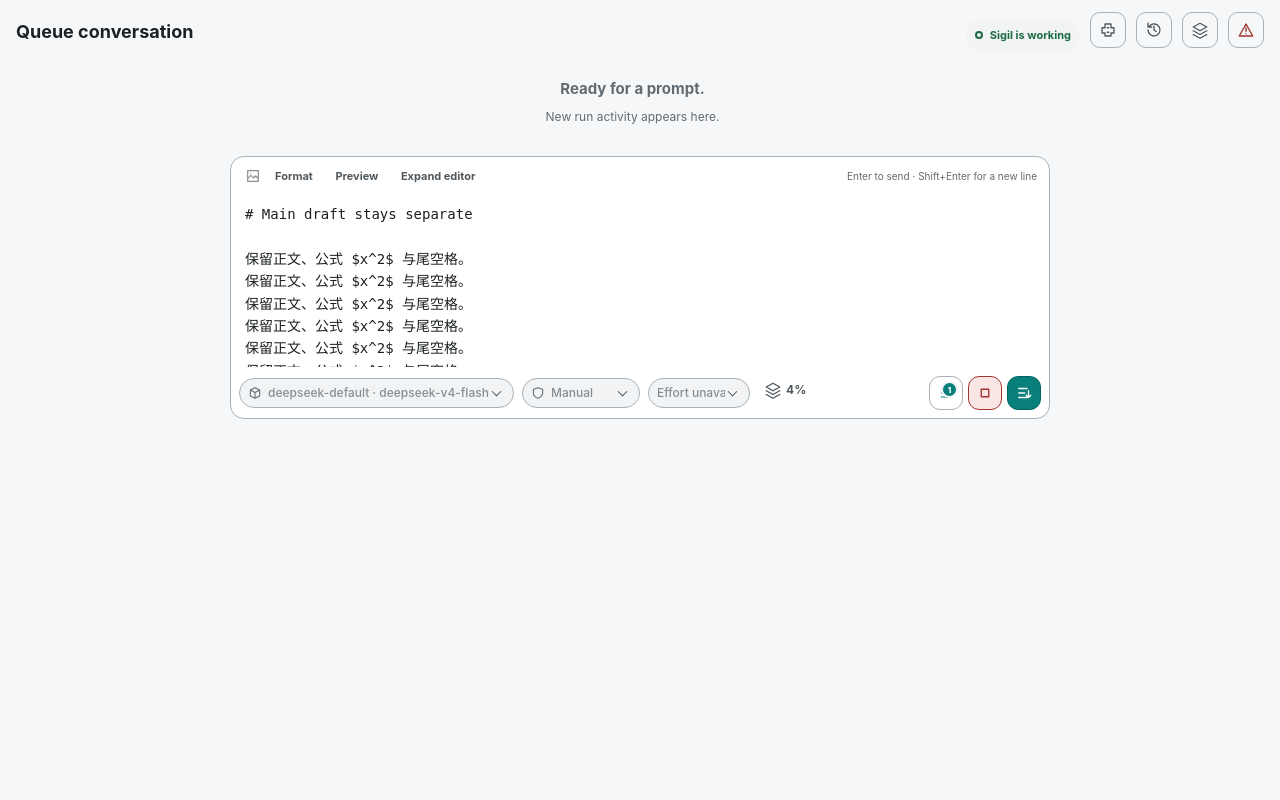
resuming the follow-up queue › follows the actual successor after Pause, Cancel and Resume when it is live
expect the button named "Cancel work" is shown: met, box [968,376,1002,410]
Click the button named "Open follow-up queue, 1 messages". click: (946, 393)
box: [929,376,963,410]
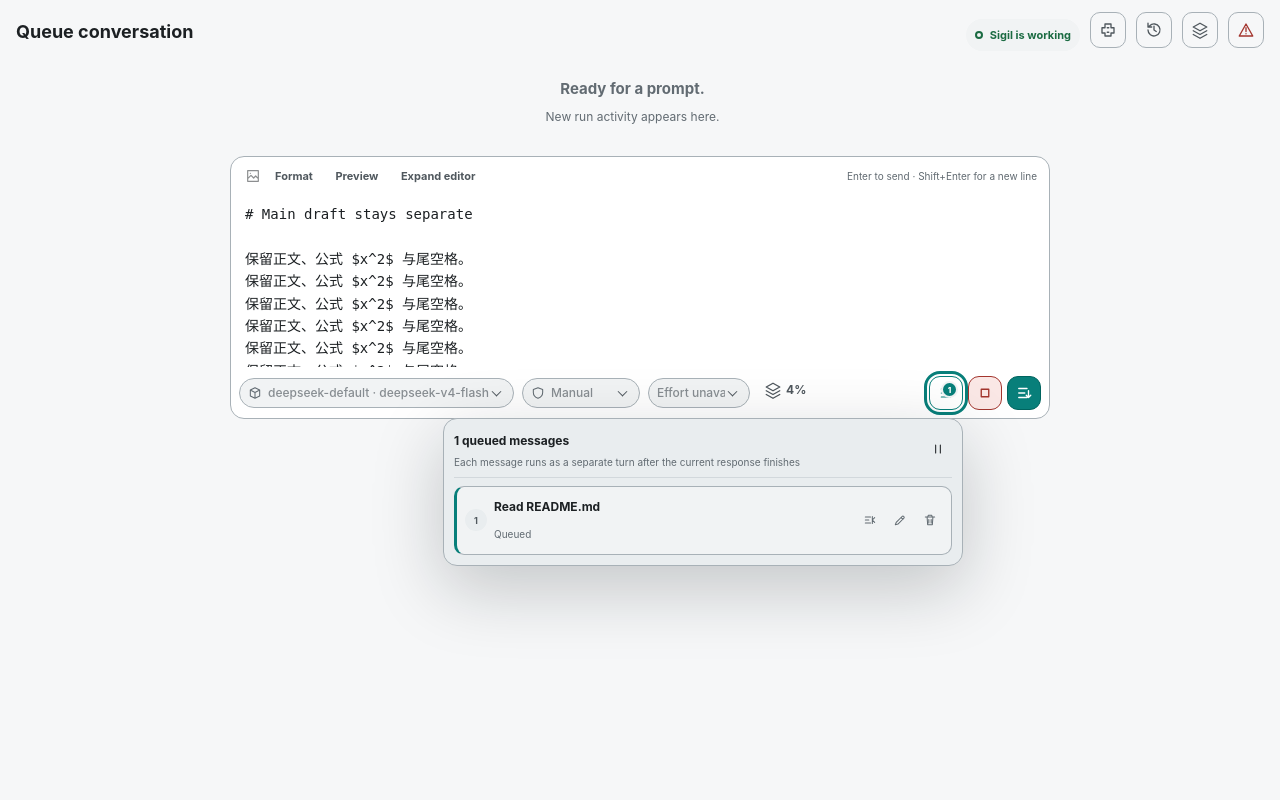
Click the button named "Pause queue". click: (938, 449)
box: [924,435,952,463]
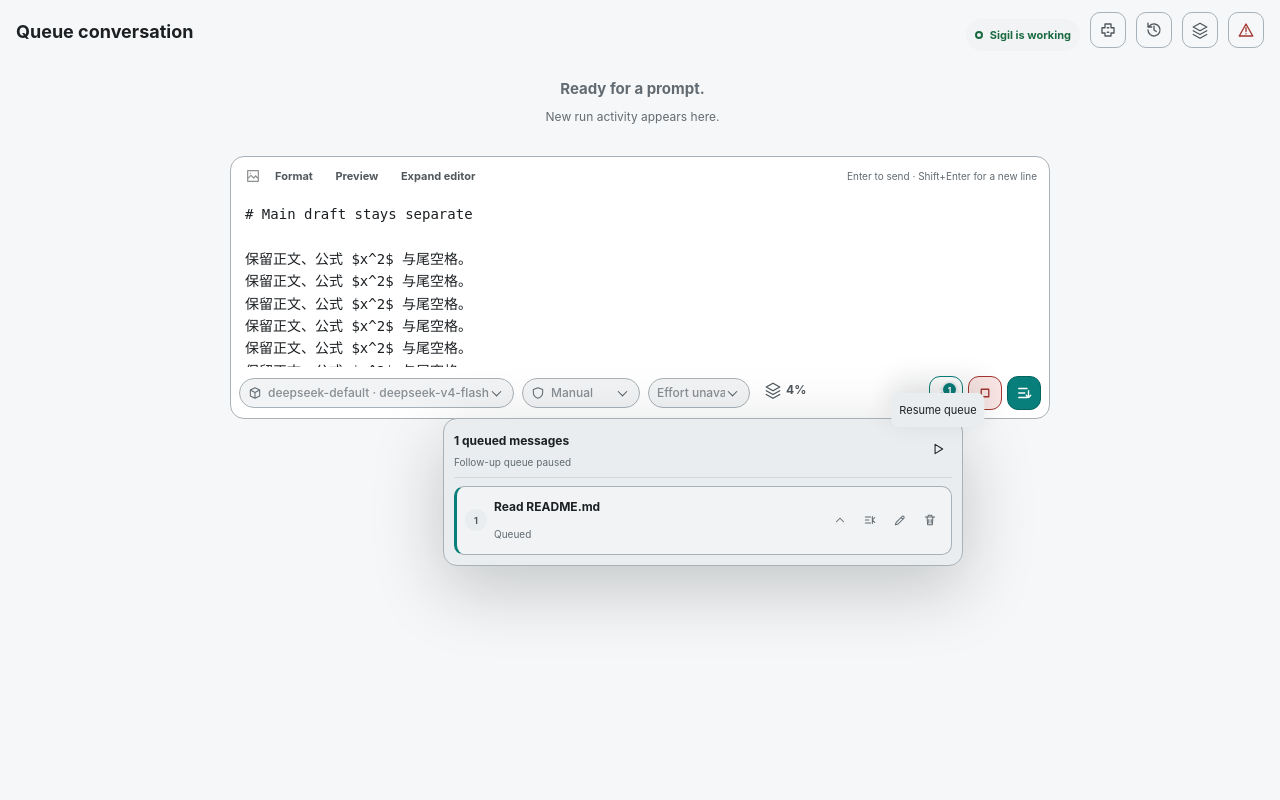
expect the button named "Resume queue" is shown: met, box [924,435,952,463]
Press Escape
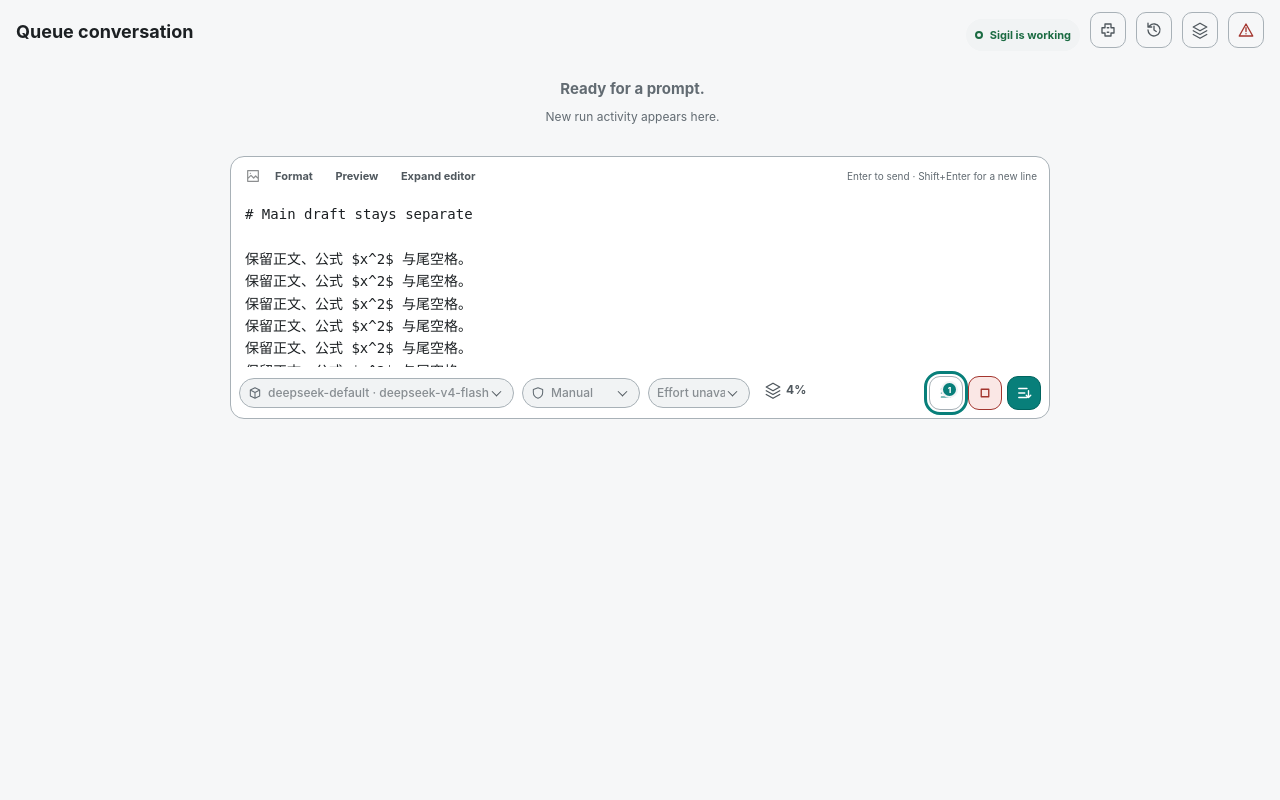
Click the button named "Cancel work". click: (985, 393)
box: [968,376,1002,410]
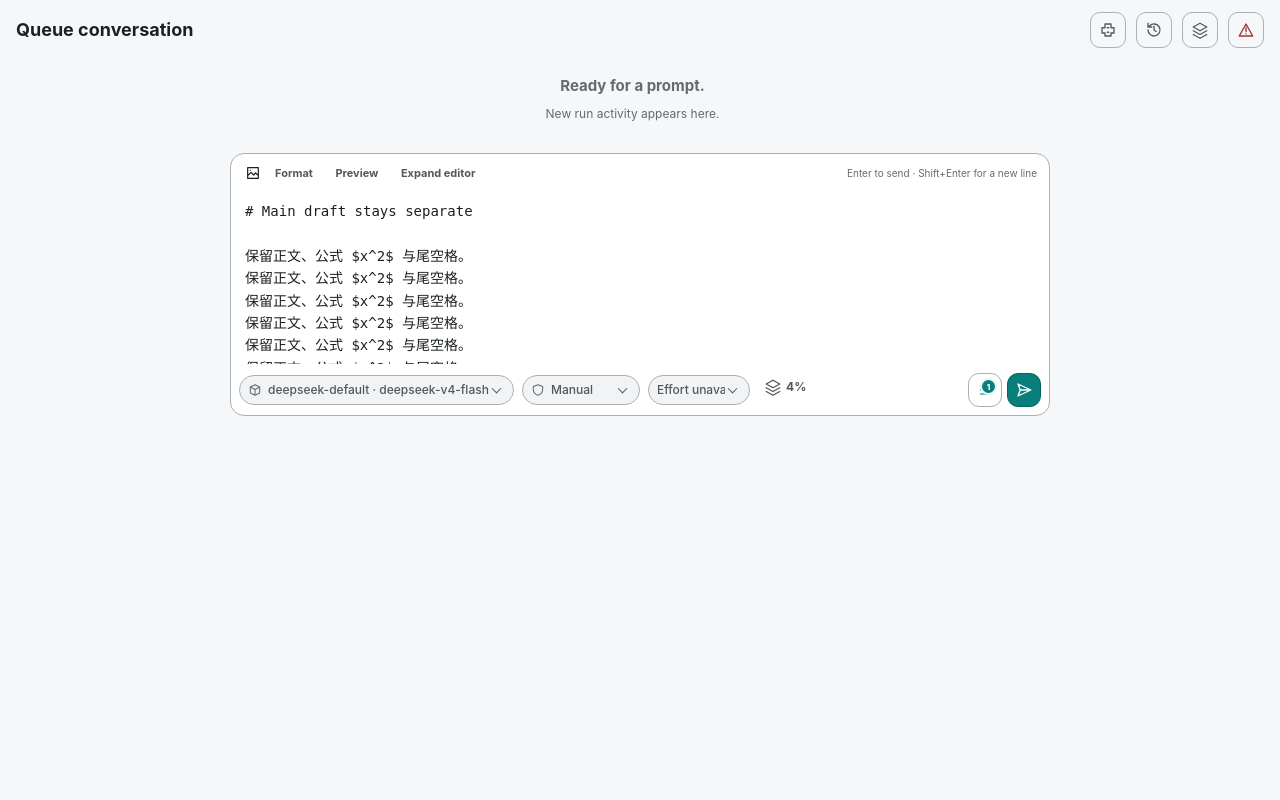
expect the element with class "conversation-panel" has attribute data-continuity-lifecycle="idle": met, box [0,0,1279,428]
Click the button named "Open follow-up queue, 1 messages". click: (985, 390)
box: [968,373,1002,407]
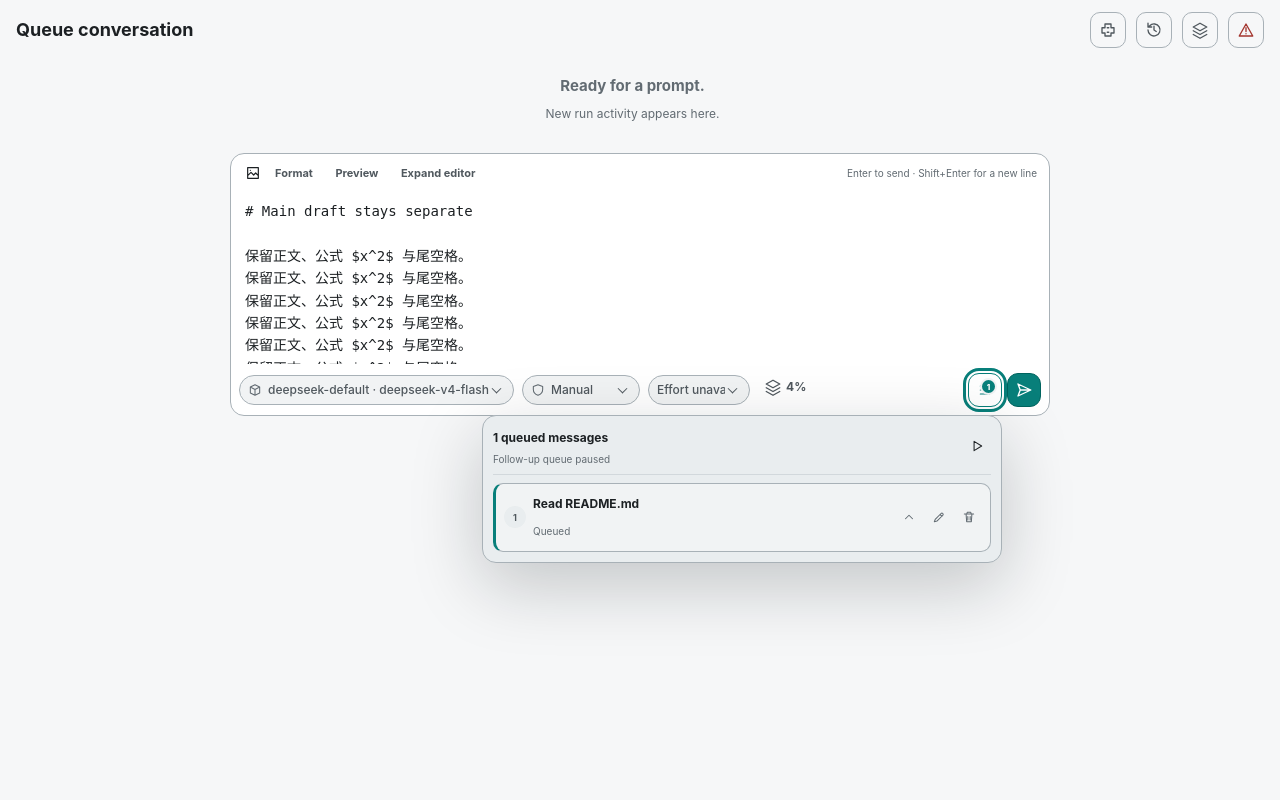
Click the button named "Resume queue". click: (977, 446)
box: [963,432,991,460]
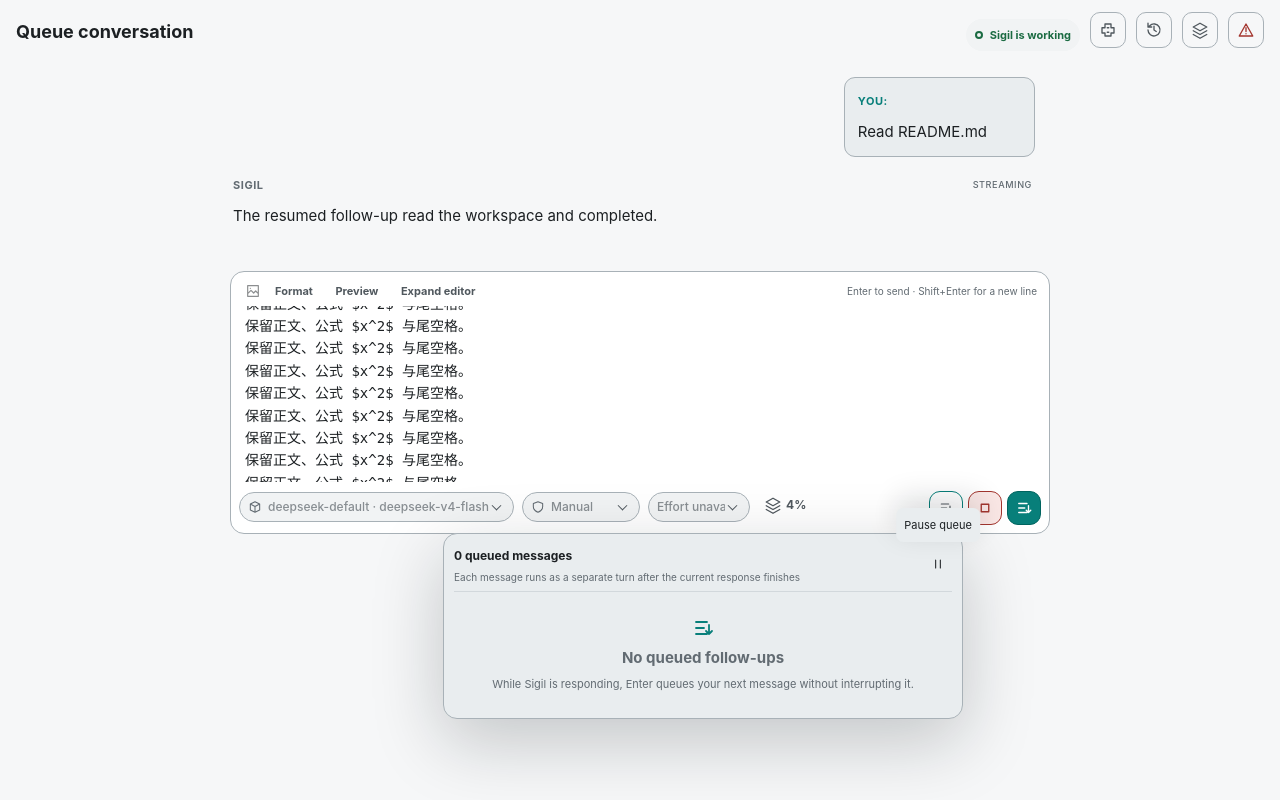
expect the text "The resumed follow-up read the workspace and completed." is shown once: met, box [233,206,657,225]
